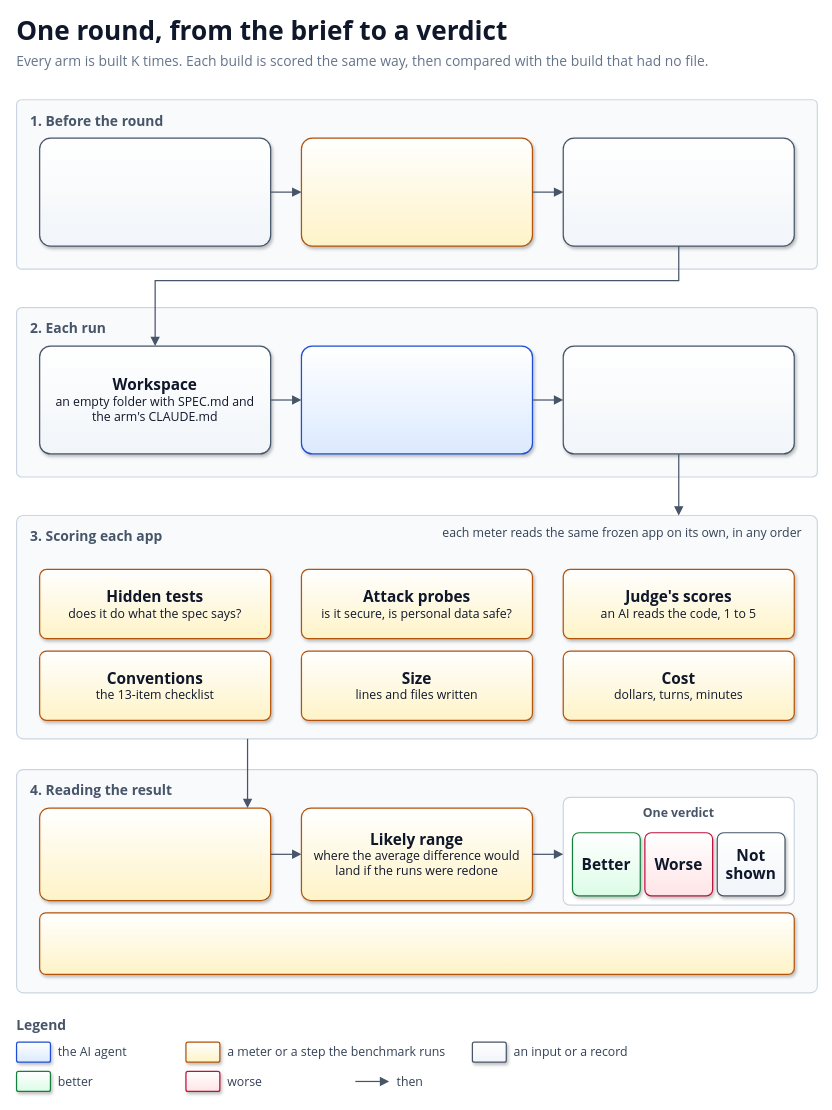
This 832x1110 diagram has some shape labels left out. Here are the shapes that lost their labels. From the top down, the centre of each, then its label:
At (156,193): "Project brief what an adopter would type".
At (417,193): "Generator makes each arm's file once, with no person answering".
At (679,193): "Context files one per arm: none, inline, hybrid, reference, skills".
At (417,401): "AI agent builds one prompt, one session, at most $100 or two hours".
At (679,401): "Frozen app saved exactly as the agent left it".
At (156,855): "Compare with the bare run same block, such as inline-1 minus none-1".
At (417,944): "Consistency an arm's runs compared with each other: how alike they came out".
